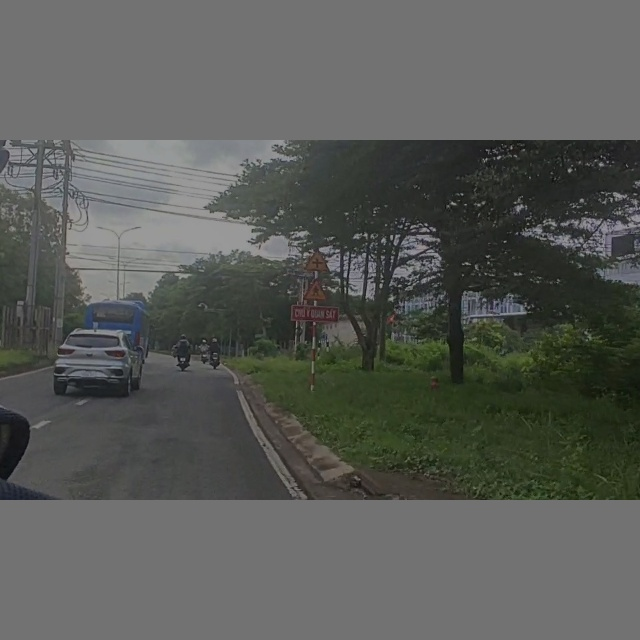W.205a: (303, 249, 333, 273)
W.224: (300, 278, 331, 301)
